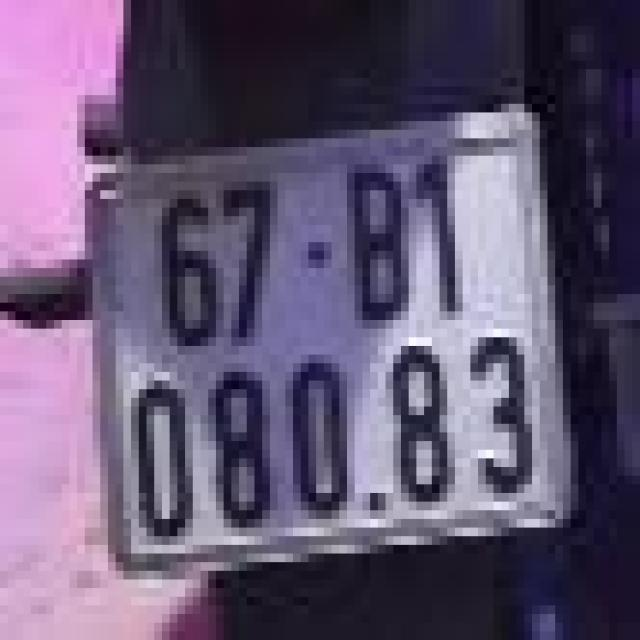0: (282, 348, 363, 522), (126, 373, 205, 546)
1: (406, 152, 483, 327)
3: (458, 325, 544, 498)
6: (150, 188, 231, 357)
7: (216, 175, 301, 355)
8: (376, 336, 470, 514), (201, 361, 279, 539)
B: (338, 163, 421, 337)
